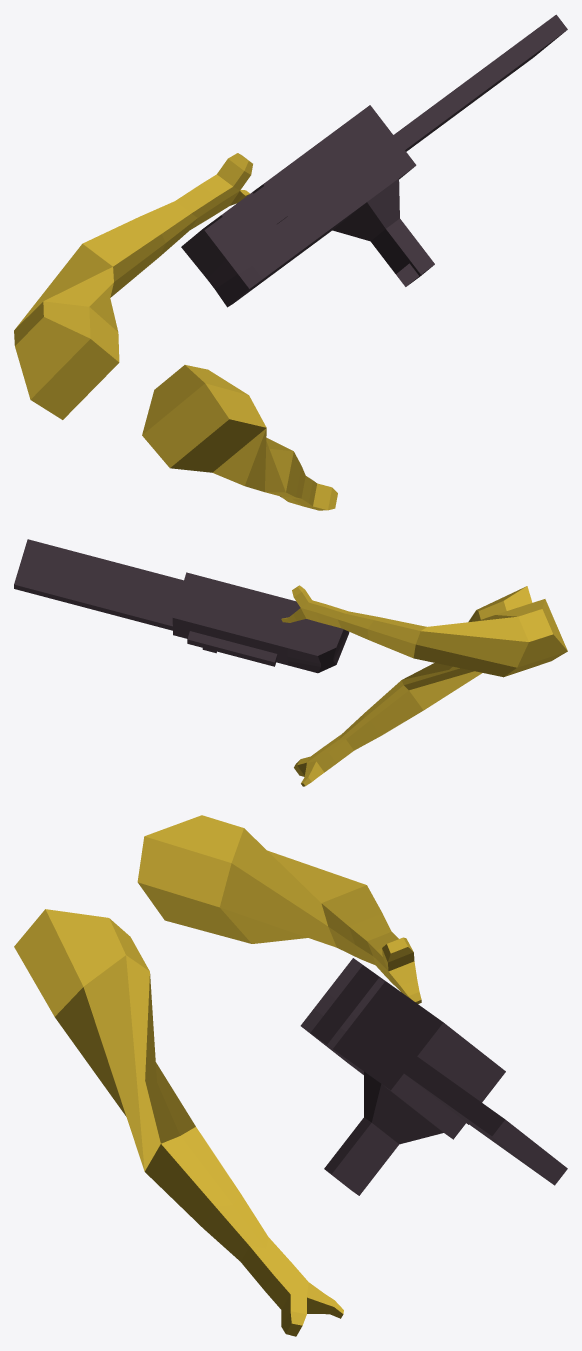
Rendered from arme_000248.obj.
3 views of the same model, one above another, from view 1: azimuth 30°, elevation 25°; view 2: azimuth 150°, elevation 25°; view 3: azimuth 270°, elevation 25° (orthographic). The views are drawn at different scales.
Parts seen in each view (by area): view 1: Cube.048_Cube.024, Cube.046_Cube.010; view 2: Cube.046_Cube.010, Cube.048_Cube.024; view 3: Cube.048_Cube.024, Cube.046_Cube.010.
Boxes of the visible parts, <box> form: Cube.048_Cube.024: <box>14,153,337,510</box>; Cube.046_Cube.010: <box>181,14,567,307</box>; Cube.046_Cube.010: <box>14,539,349,673</box>; Cube.048_Cube.024: <box>281,585,567,786</box>; Cube.048_Cube.024: <box>14,815,421,1336</box>; Cube.046_Cube.010: <box>300,958,567,1195</box>.
Bounding box in the file's own units: 2265 × 1112 × 1417.
